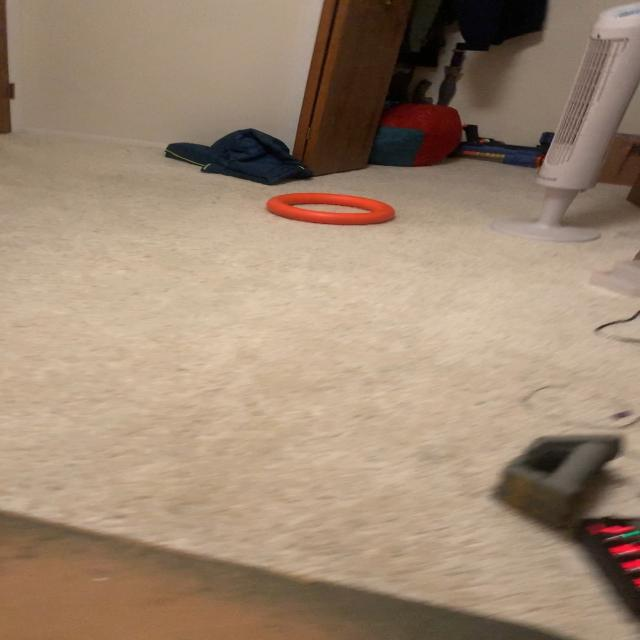notes: (272, 194, 396, 225)
